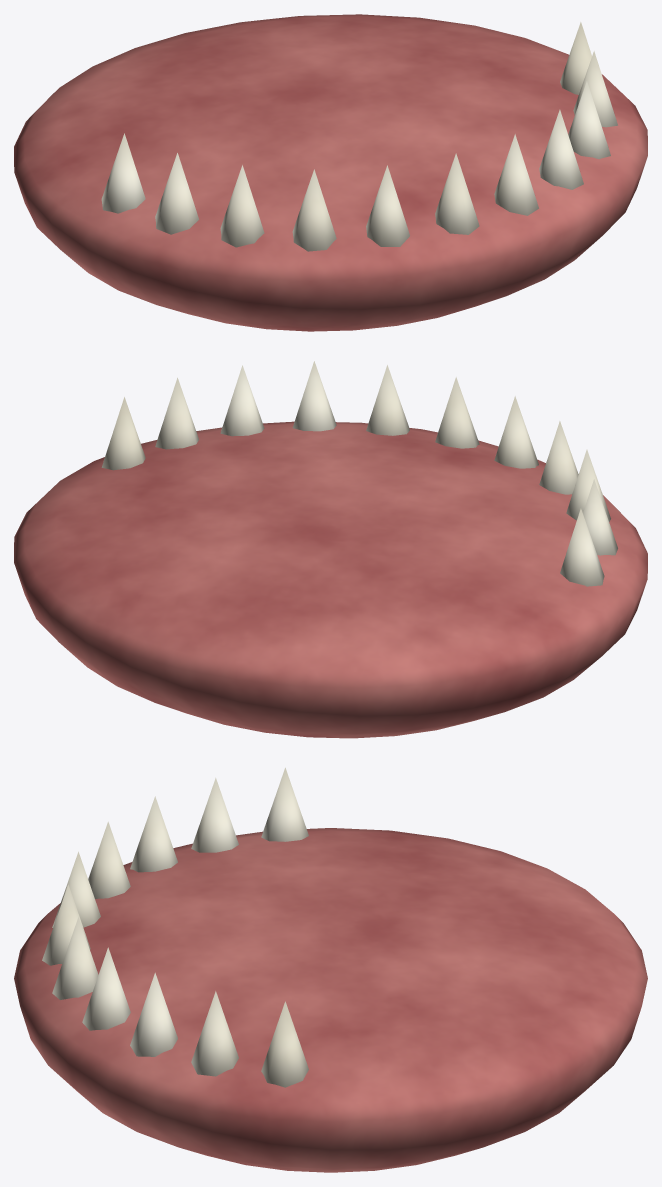
File: headcrab_boca.obj
3 renders of one model, top to bottom at view 1: azimuth 30°, elevation 25°; view 2: azimuth 150°, elevation 25°; view 3: azimuth 270°, elevation 25°, orthographic. The views are drawn at different scales.
Parts seen in each view (by area): view 1: boca; view 2: boca; view 3: boca.
Part boxes in pixels (left/top/right/bottom): boca: left=14, top=14, right=647, bottom=331; boca: left=14, top=361, right=647, bottom=738; boca: left=14, top=767, right=647, bottom=1172.
Bounding box in the file's own units: 0.15 × 0.055 × 0.14.
